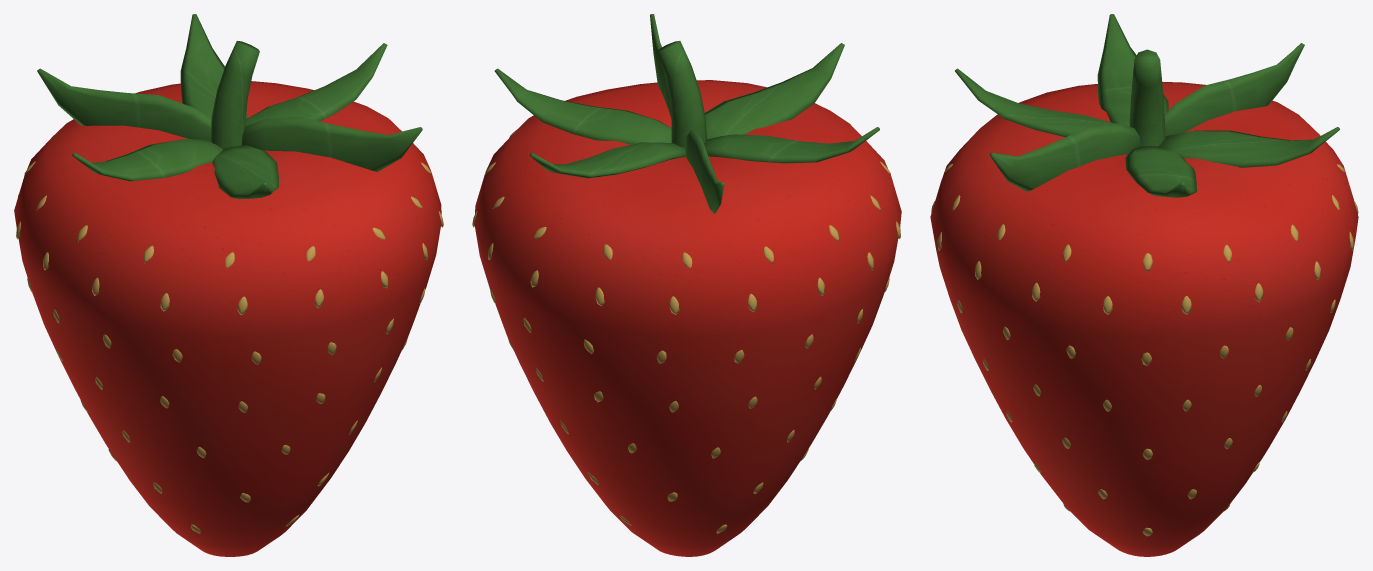
File: strawberry.glb
3 views of the same model, side by side, from view 1: azimuth 30°, elevation 25°; view 2: azimuth 150°, elevation 25°; view 3: azimuth 270°, elevation 25° (orthographic).
Visible parts, largest first — view 1: Tapered strawberry receptacle, Closed pointed strawberry sepal 5, Closed pointed strawberry sepal 2, Closed pointed strawberry sepal 3, Attached strawberry pedicel, Closed pointed strawberry sepal 0, Closed pointed strawberry sepal 4, Closed pointed strawberry sepal 1; view 2: Tapered strawberry receptacle, Closed pointed strawberry sepal 4, Closed pointed strawberry sepal 0, Closed pointed strawberry sepal 3, Attached strawberry pedicel, Closed pointed strawberry sepal 1, Closed pointed strawberry sepal 2, Closed pointed strawberry sepal 5; view 3: Tapered strawberry receptacle, Closed pointed strawberry sepal 5, Closed pointed strawberry sepal 2, Closed pointed strawberry sepal 1, Closed pointed strawberry sepal 3, Attached strawberry pedicel, Closed pointed strawberry sepal 0, Closed pointed strawberry sepal 4.
Boxes of the visible parts, <box> form: Tapered strawberry receptacle: <box>14,81,441,556</box>; Closed pointed strawberry sepal 5: <box>242,116,422,171</box>; Closed pointed strawberry sepal 2: <box>37,68,211,140</box>; Closed pointed strawberry sepal 3: <box>72,139,222,181</box>; Attached strawberry pedicel: <box>210,41,259,149</box>; Closed pointed strawberry sepal 0: <box>245,43,387,125</box>; Closed pointed strawberry sepal 4: <box>212,145,279,199</box>; Closed pointed strawberry sepal 1: <box>180,14,247,119</box>; Tapered strawberry receptacle: <box>474,80,901,556</box>; Closed pointed strawberry sepal 4: <box>705,43,844,139</box>; Closed pointed strawberry sepal 0: <box>494,68,671,144</box>; Closed pointed strawberry sepal 3: <box>704,127,879,163</box>; Attached strawberry pedicel: <box>657,41,706,147</box>; Closed pointed strawberry sepal 1: <box>529,142,685,178</box>; Closed pointed strawberry sepal 2: <box>684,129,724,214</box>; Closed pointed strawberry sepal 5: <box>650,14,671,117</box>; Tapered strawberry receptacle: <box>930,82,1358,556</box>; Closed pointed strawberry sepal 5: <box>990,123,1140,191</box>; Closed pointed strawberry sepal 2: <box>1164,43,1304,136</box>; Closed pointed strawberry sepal 1: <box>1158,127,1339,167</box>; Closed pointed strawberry sepal 3: <box>1097,14,1168,126</box>; Attached strawberry pedicel: <box>1129,49,1165,146</box>; Closed pointed strawberry sepal 0: <box>1125,146,1196,197</box>; Closed pointed strawberry sepal 4: <box>955,68,1115,137</box>.
Size of the model in its own units: 0.0402 by 0.0526 by 0.04.
3 materials, 3 textured.
